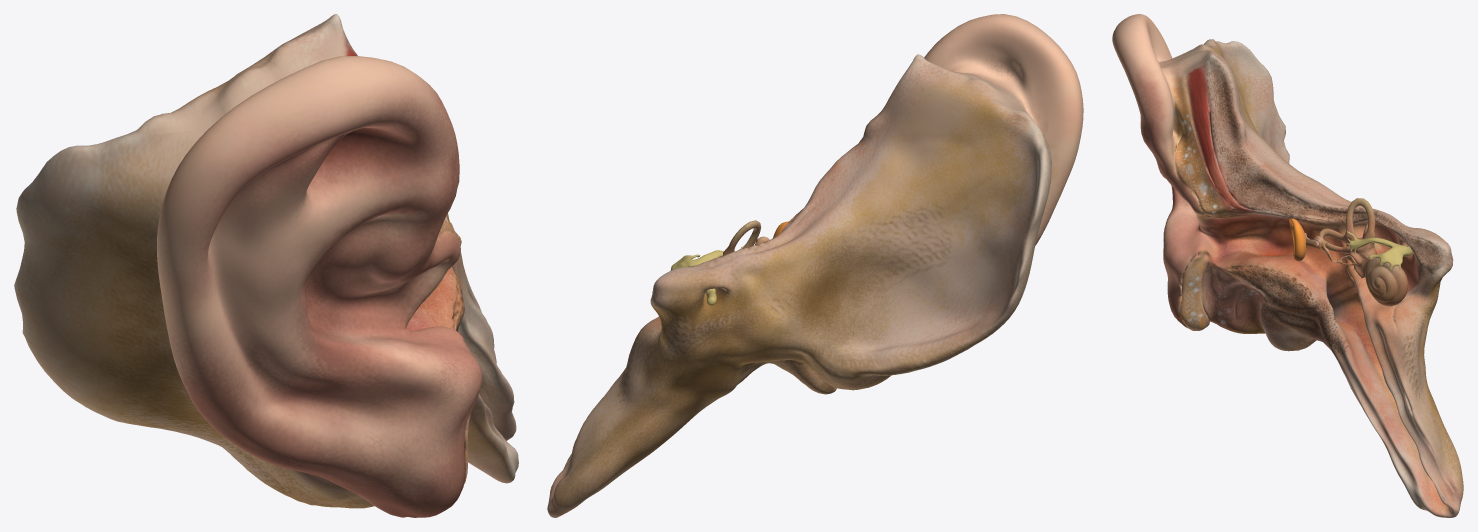
The model's file is ear.gltf.
3 views of the same model, side by side, from view 1: azimuth 30°, elevation 25°; view 2: azimuth 150°, elevation 25°; view 3: azimuth 270°, elevation 25° (orthographic). The views are drawn at different scales.
Parts seen in each view (by area): view 1: outerEar; view 2: outerEar, ear_bone; view 3: outerEar, model_4, ear_bone, ear vibration, model_3.
Part boxes in pixels (x1,y1,x2,y2): outerEar: [14, 14, 518, 517]; outerEar: [547, 14, 1083, 517]; ear_bone: [670, 244, 745, 305]; outerEar: [1112, 14, 1463, 517]; model_4: [1318, 198, 1407, 306]; ear_bone: [1346, 231, 1412, 270]; ear vibration: [1289, 218, 1306, 261]; model_3: [1305, 233, 1357, 265].
Size of the model in its own units: 2.32 by 2.49 by 2.08.
